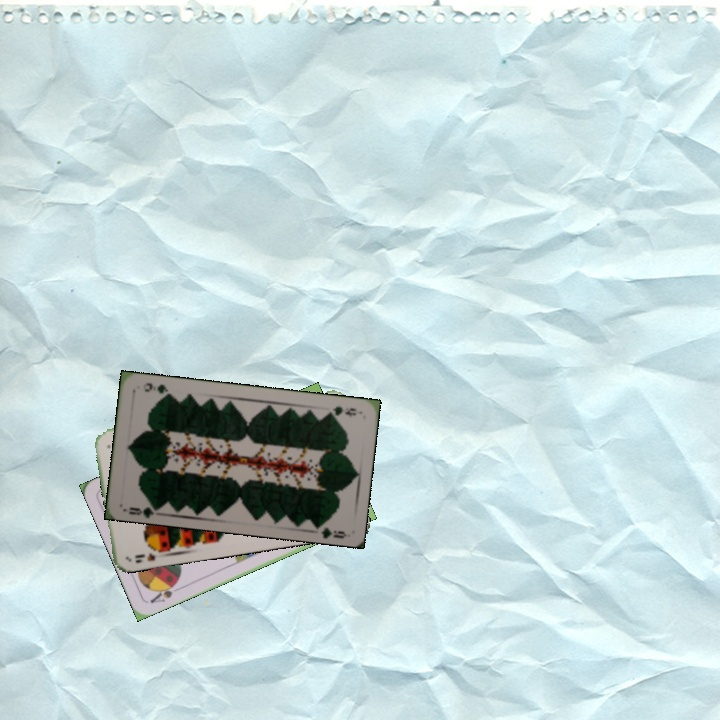G9: (125, 499, 162, 519), (323, 402, 361, 420)
S9: (131, 542, 167, 564)
SA: (146, 578, 184, 606)
